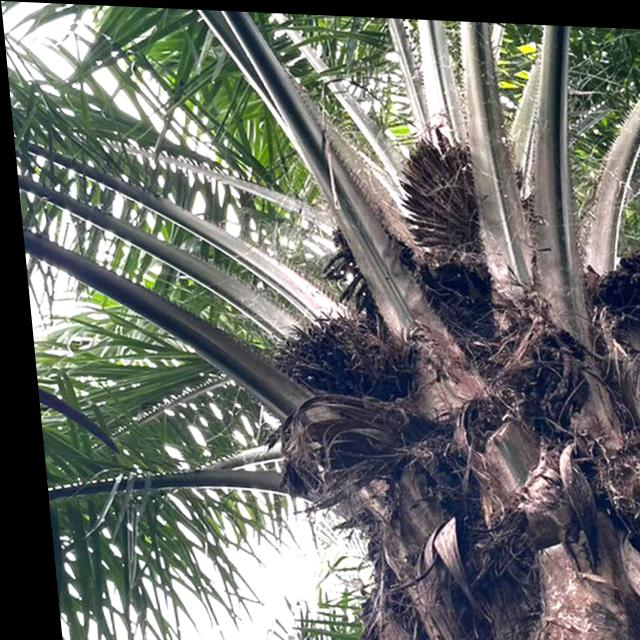almost: (254, 307, 399, 405)
